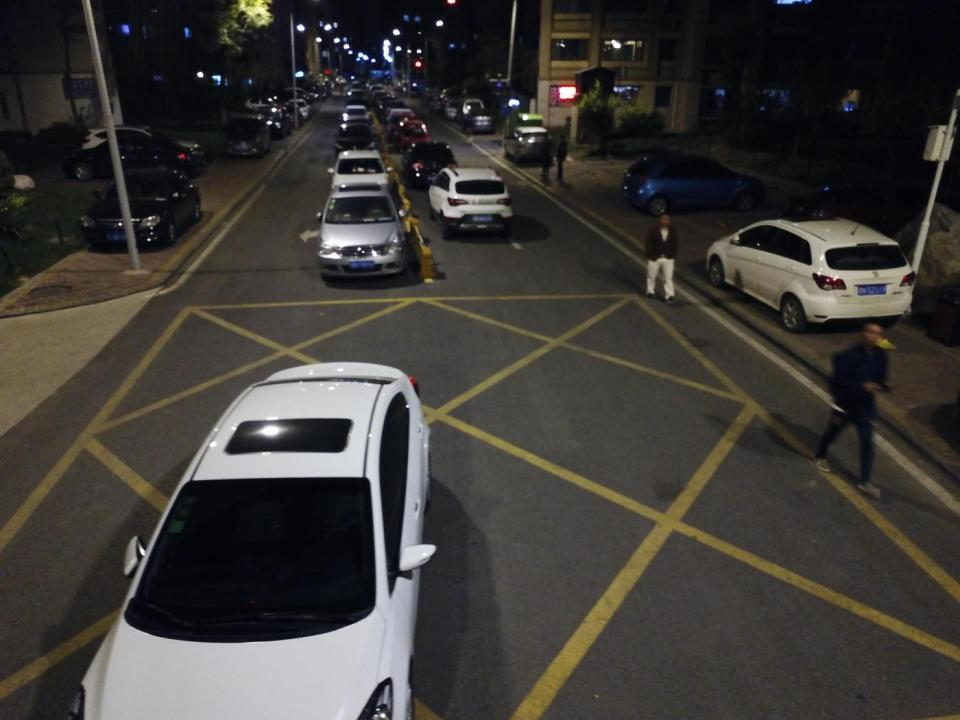car: (65, 360, 436, 720), (706, 211, 916, 331), (619, 152, 771, 218), (791, 168, 937, 234), (317, 180, 411, 279), (87, 176, 213, 248), (430, 163, 516, 240), (60, 141, 204, 184), (78, 124, 204, 169), (325, 144, 393, 204), (396, 138, 461, 185), (222, 117, 272, 161), (328, 118, 384, 154), (507, 126, 555, 166), (390, 115, 430, 147), (243, 93, 286, 118), (258, 105, 291, 136), (463, 108, 496, 135), (444, 97, 476, 121), (431, 92, 463, 116), (275, 102, 304, 128), (338, 103, 372, 125), (282, 96, 310, 122), (376, 96, 408, 118), (386, 108, 418, 130), (279, 84, 317, 101), (422, 86, 447, 108), (343, 96, 367, 108), (347, 87, 366, 100), (371, 88, 393, 96), (349, 79, 363, 91), (368, 84, 384, 92)
van: (456, 95, 488, 127)
